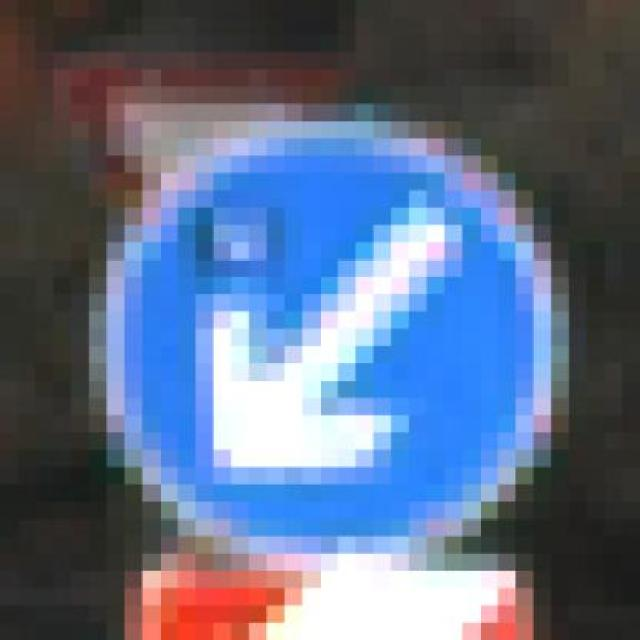Keep-Left: (71, 86, 587, 571)
